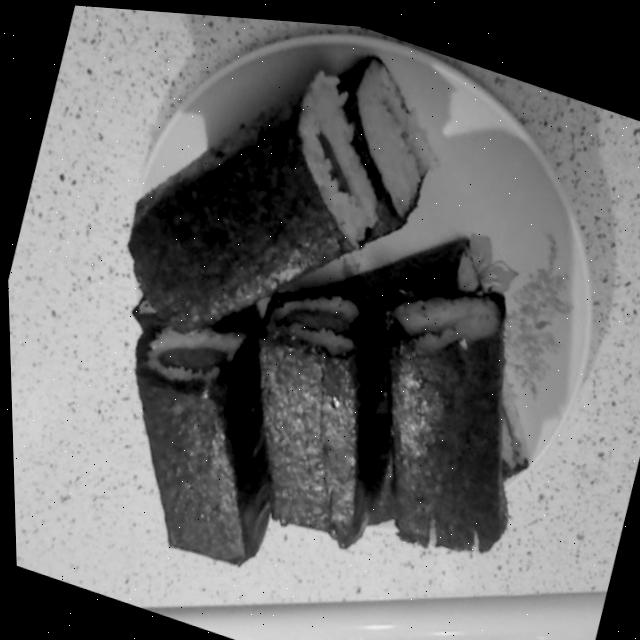寿司卷物: (17, 1, 640, 640)
